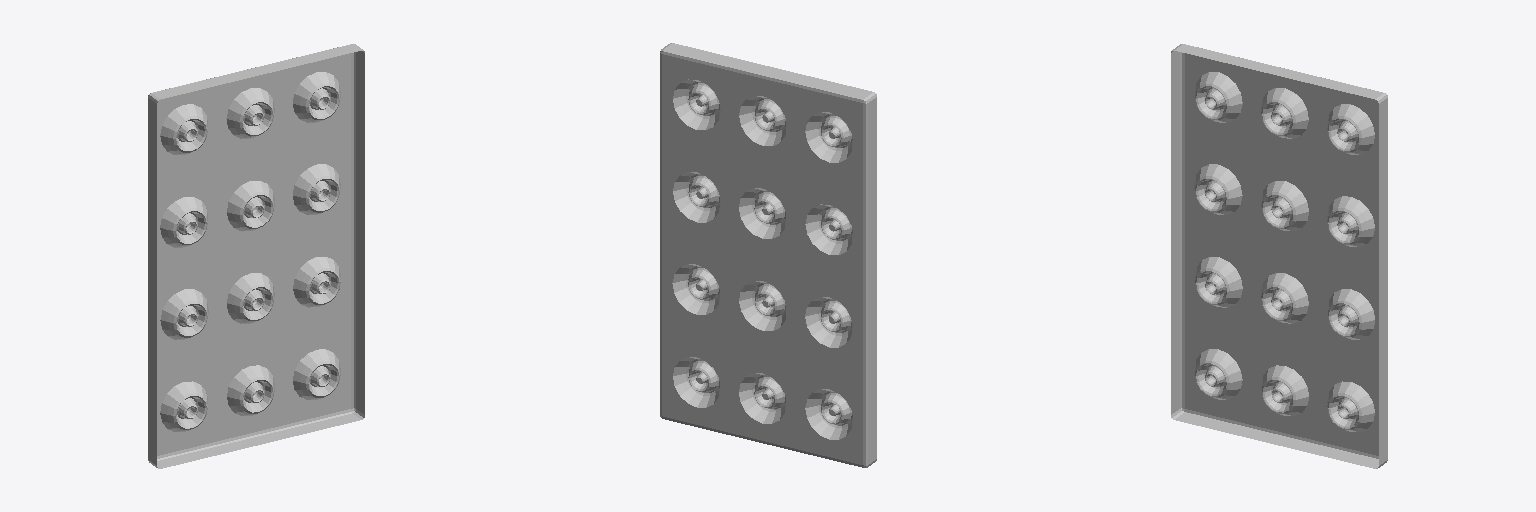
The model's file is RearEngine.obj.
3 views of the same model, side by side, from view 1: azimuth 30°, elevation 25°; view 2: azimuth 150°, elevation 25°; view 3: azimuth 330°, elevation 25° (orthographic).
Visible parts, largest first — view 1: group__Spark_Renault_SRT_01E_base_ligth_rear; view 2: group__Spark_Renault_SRT_01E_base_ligth_rear; view 3: group__Spark_Renault_SRT_01E_base_ligth_rear.
Boxes of the visible parts, x1,y1,x2,y2 form: group__Spark_Renault_SRT_01E_base_ligth_rear: [148, 44, 364, 468]; group__Spark_Renault_SRT_01E_base_ligth_rear: [660, 43, 876, 467]; group__Spark_Renault_SRT_01E_base_ligth_rear: [1171, 44, 1387, 468].
Size of the model in its own units: 0.0778 by 0.132 by 0.0068.